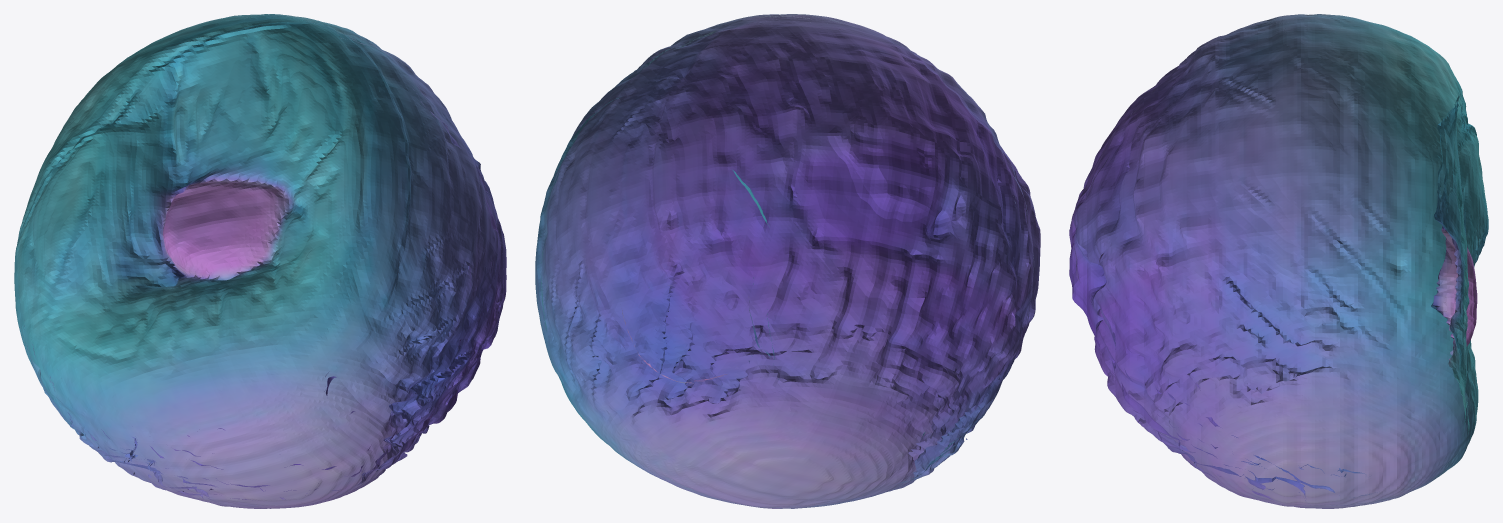
3 renders of one model, left to right at view 1: azimuth 30°, elevation 25°; view 2: azimuth 150°, elevation 25°; view 3: azimuth 270°, elevation 25°, orthographic. The views are drawn at different scales.
Visible parts, largest first — view 1: geometry_0; view 2: geometry_0; view 3: geometry_0.
Boxes of the visible parts, bbox=[...] form: geometry_0: bbox=[14, 14, 506, 508]; geometry_0: bbox=[535, 14, 1040, 508]; geometry_0: bbox=[1069, 14, 1488, 508].
Size of the model in its own units: 1.6 by 1.59 by 1.38.
